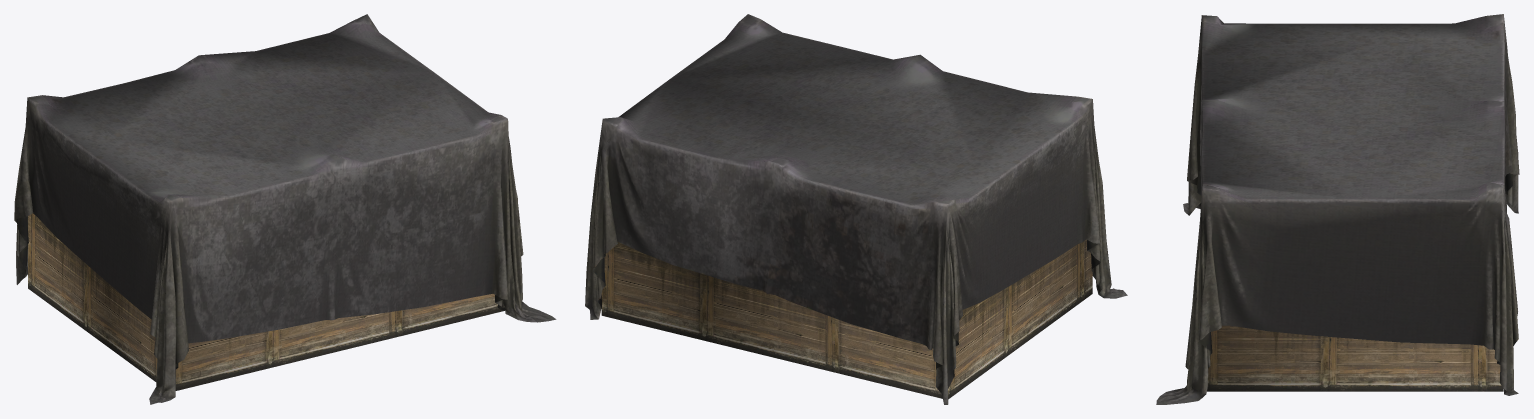
File: atlas1_uv2.fbx
3 renders of one model, left to right at view 1: azimuth 30°, elevation 25°; view 2: azimuth 150°, elevation 25°; view 3: azimuth 270°, elevation 25°, orthographic. The views are drawn at different scales.
Visible parts, largest first — view 1: atlas1_uv2; view 2: atlas1_uv2; view 3: atlas1_uv2.
Part boxes in pixels (bbox=[...]): atlas1_uv2: bbox=[14, 14, 556, 404]; atlas1_uv2: bbox=[585, 14, 1127, 404]; atlas1_uv2: bbox=[1156, 14, 1519, 404].
Bounding box in the file's own units: 535 × 252 × 405.
